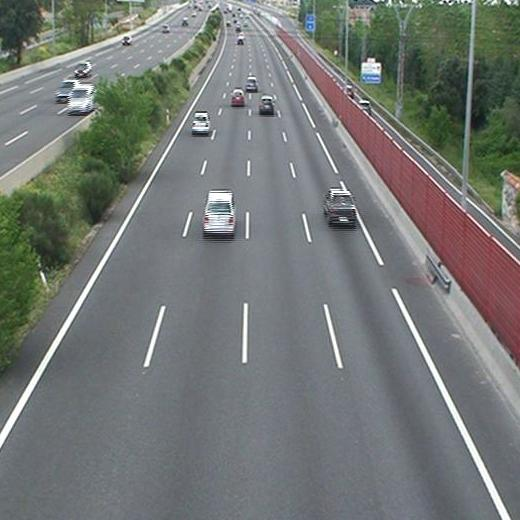car: (203, 190, 235, 233), (324, 190, 355, 224), (192, 112, 209, 133), (260, 97, 274, 114), (232, 90, 244, 106), (245, 77, 258, 90)
